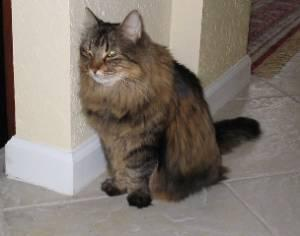cat: (78, 5, 261, 209)
